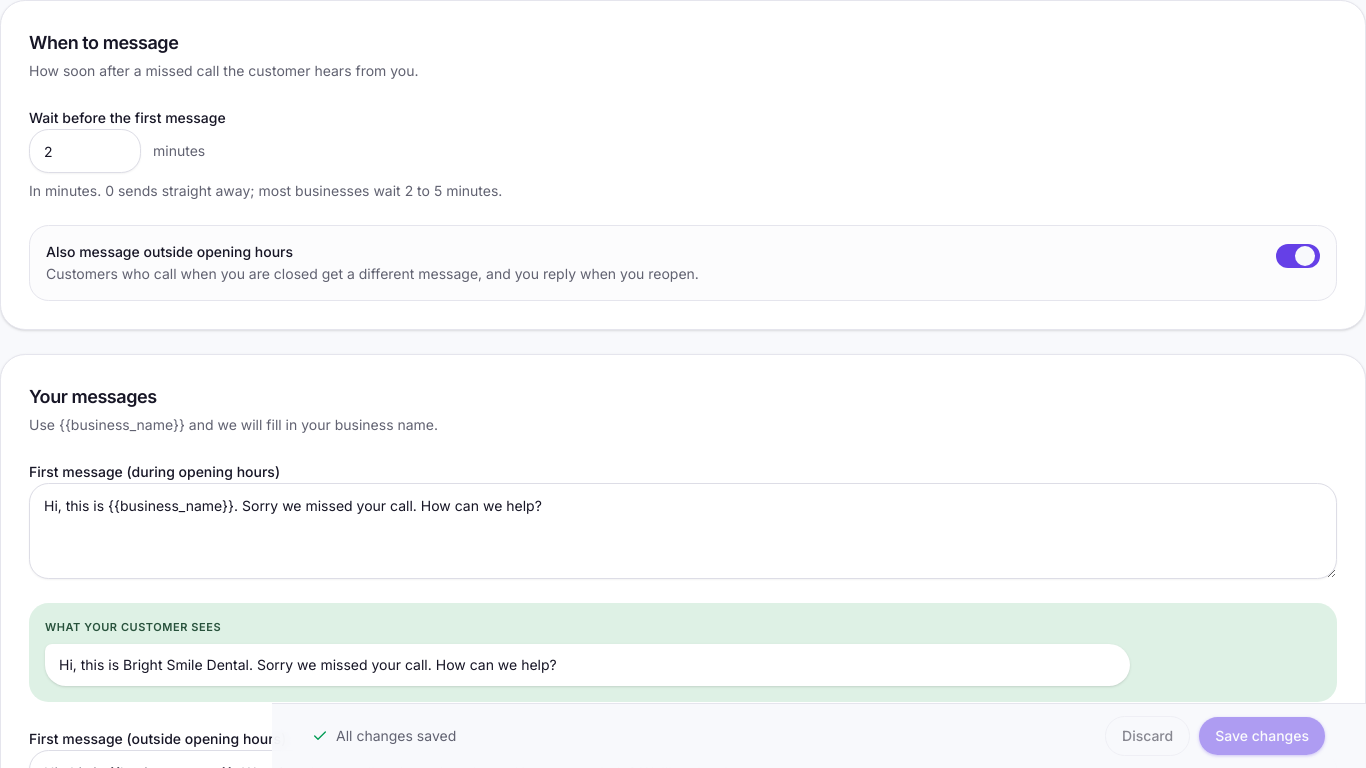
Test: MissedCallForm › enables saving after a change and sends the new settings as JSON
The image size is (1366, 768).
Replace the text in the number field labelled "Wait before the first message" with "7" at [85, 151], box [29,129,141,173]
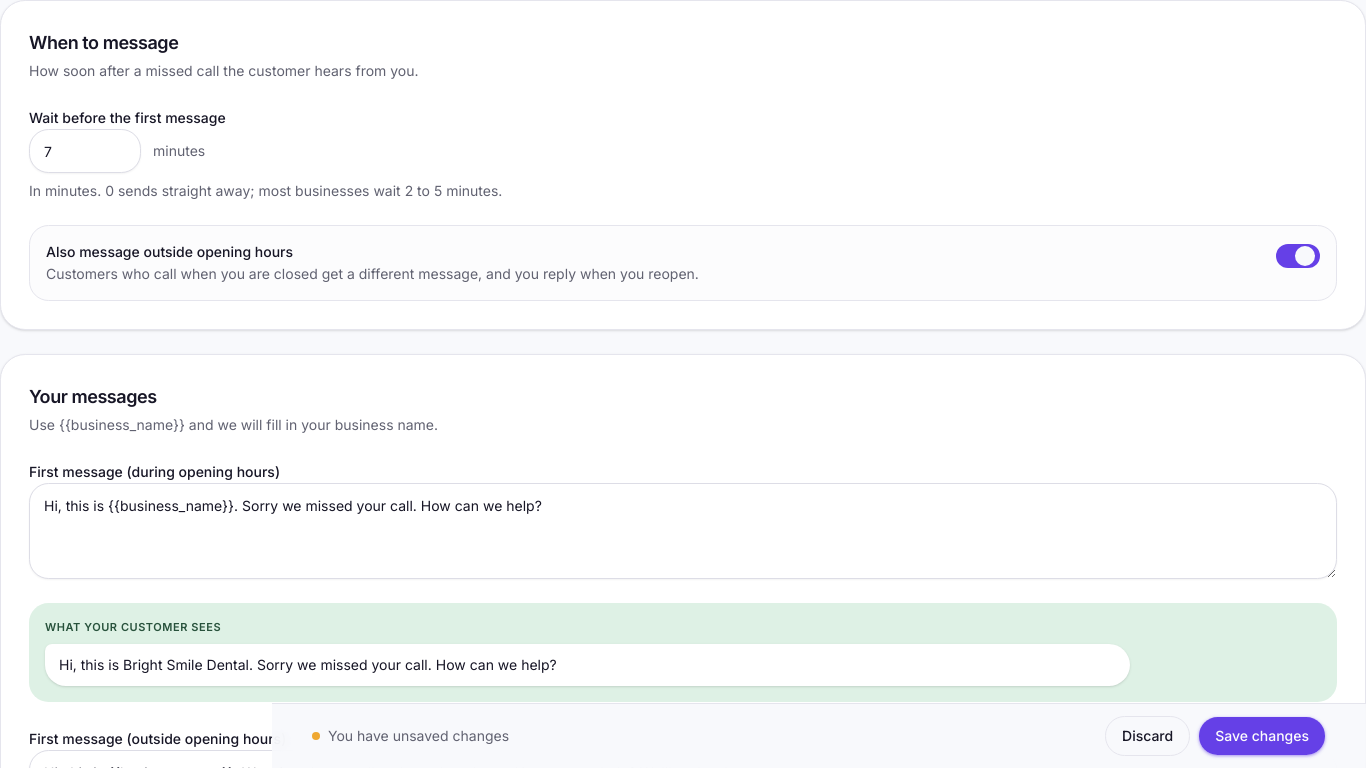
Click the button "Save changes" at [1262, 736], box [1198,716,1326,756]
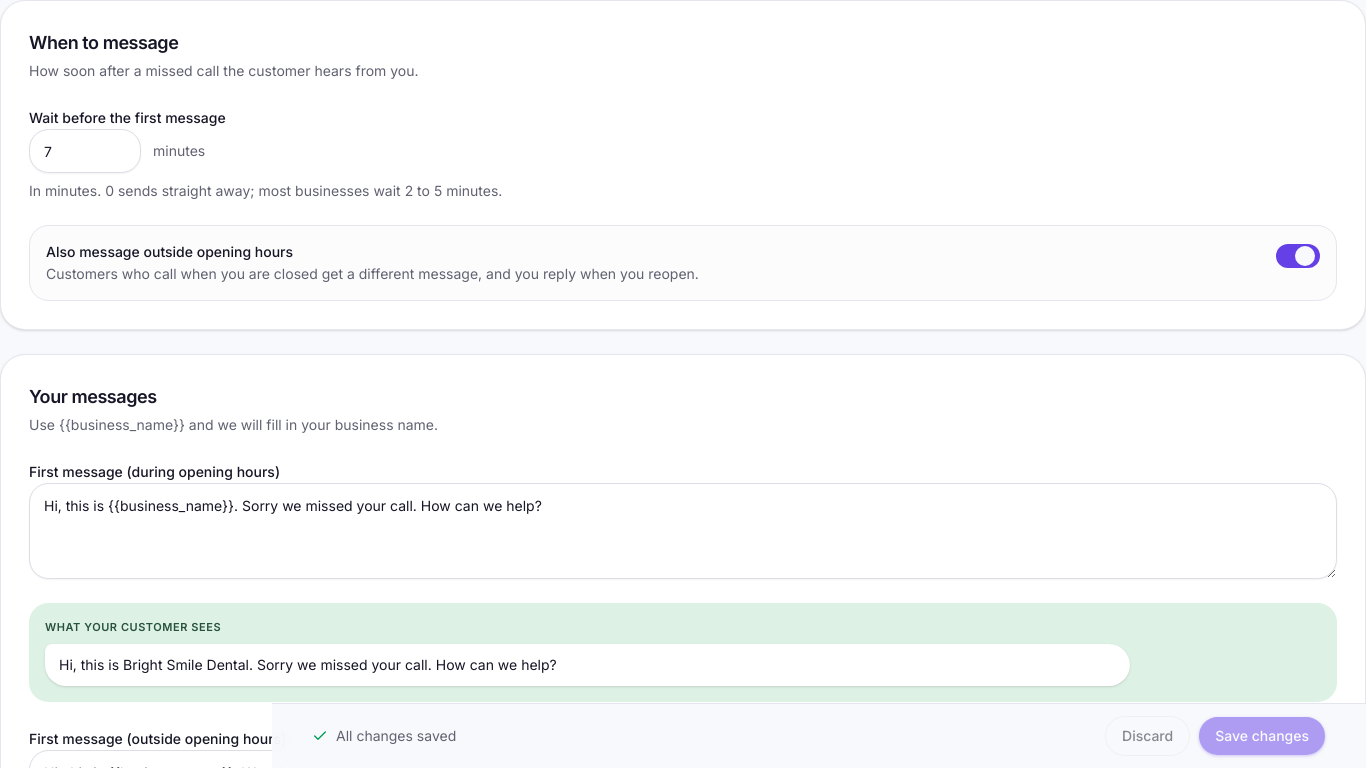
Now the text "All changes saved" is shown, box [312,726,456,746]
